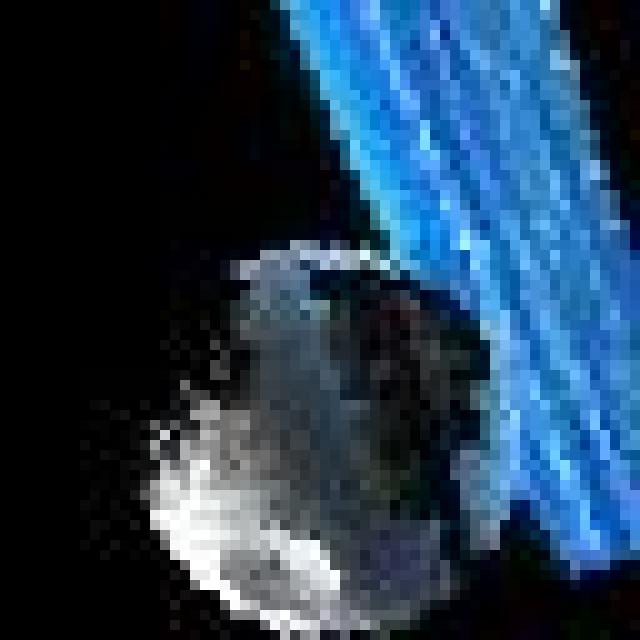Death Star: (100, 234, 533, 640)
